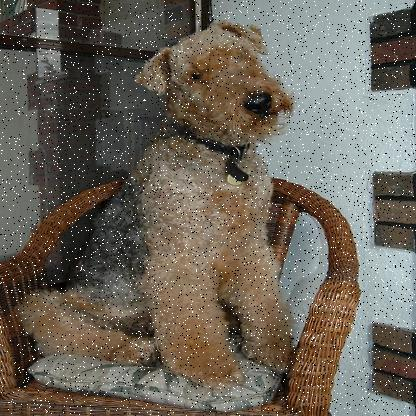dog: (45, 19, 311, 386)
